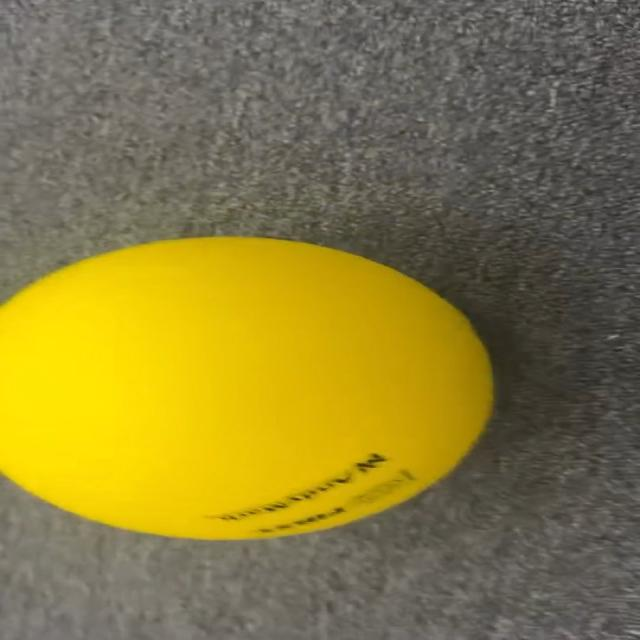Fuels: (3, 239, 493, 536)
